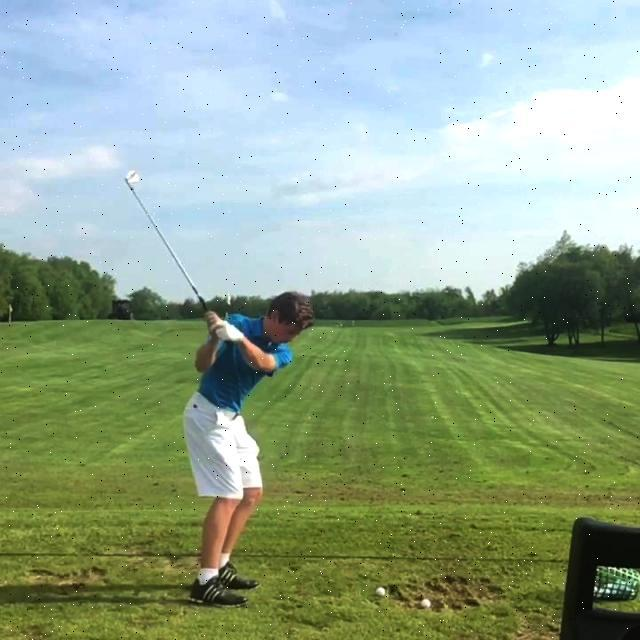ClubHandle: (123, 169, 236, 349)
ClubHead: (125, 170, 142, 185)
GolfBall: (375, 586, 388, 598), (420, 599, 431, 609)
